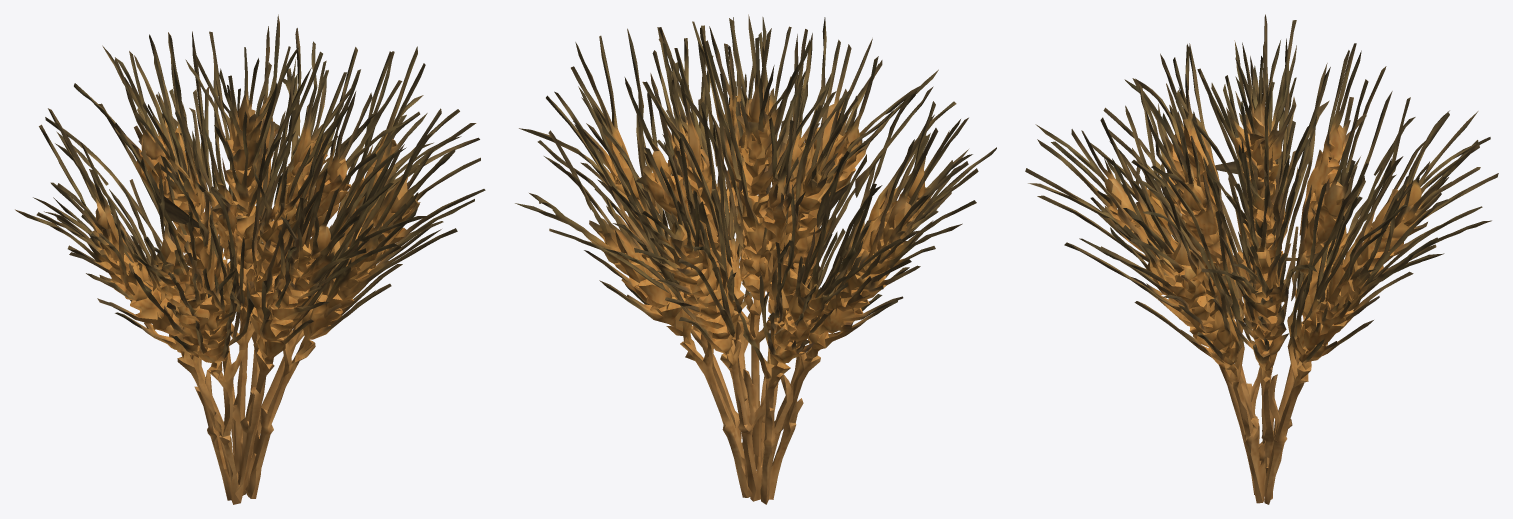
Rendered from wheat.glb.
The picture shows the model from 3 angles, left to right: view 1: azimuth 30°, elevation 25°; view 2: azimuth 150°, elevation 25°; view 3: azimuth 270°, elevation 25°; orthographic projection. The views are drawn at different scales.
Parts seen in each view (by area): view 1: world; view 2: world; view 3: world.
Boxes of the visible parts, x1,y1,x2,y2 form: world: [15, 14, 485, 504]; world: [515, 14, 996, 504]; world: [1025, 14, 1498, 504].
Size of the model in its own units: 0.35 by 0.3518 by 0.3393.
1 material, 1 textured.
